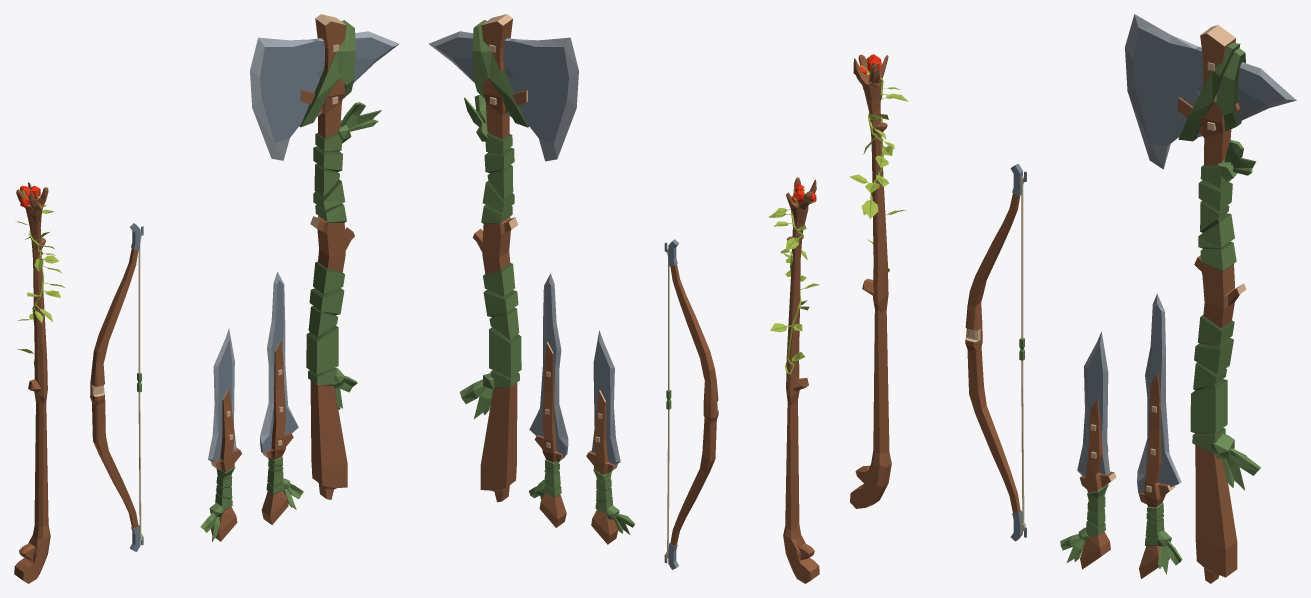
File: WEAPONS_primitive_01.fbx
3 renders of one model, left to right at view 1: azimuth 30°, elevation 25°; view 2: azimuth 150°, elevation 25°; view 3: azimuth 330°, elevation 25°, orthographic. The views are drawn at different scales.
Parts seen in each view (by area): view 1: WEAPONSETS_Primitive_04tri:primitive_warrior, WEAPONSETS_Primitive_04tri:primitive_rogue, WEAPONSETS_Primitive_04tri:primitve_staffe, WEAPONSETS_Primitive_04tri:primitive_bow; view 2: WEAPONSETS_Primitive_04tri:primitive_warrior, WEAPONSETS_Primitive_04tri:primitive_rogue, WEAPONSETS_Primitive_04tri:primitve_staffe, WEAPONSETS_Primitive_04tri:primitive_bow; view 3: WEAPONSETS_Primitive_04tri:primitive_warrior, WEAPONSETS_Primitive_04tri:primitive_rogue, WEAPONSETS_Primitive_04tri:primitve_staffe, WEAPONSETS_Primitive_04tri:primitive_bow.
Boxes of the visible parts, x1,y1,x2,y2 form: WEAPONSETS_Primitive_04tri:primitive_warrior: (250, 14, 399, 499); WEAPONSETS_Primitive_04tri:primitive_rogue: (30, 185, 303, 541); WEAPONSETS_Primitive_04tri:primitve_staffe: (14, 182, 65, 583); WEAPONSETS_Primitive_04tri:primitive_bow: (90, 223, 143, 551); WEAPONSETS_Primitive_04tri:primitive_warrior: (429, 14, 578, 502); WEAPONSETS_Primitive_04tri:primitive_rogue: (529, 184, 804, 544); WEAPONSETS_Primitive_04tri:primitve_staffe: (768, 177, 819, 583); WEAPONSETS_Primitive_04tri:primitive_bow: (664, 239, 718, 569); WEAPONSETS_Primitive_04tri:primitive_warrior: (1125, 14, 1296, 583); WEAPONSETS_Primitive_04tri:primitive_rogue: (867, 57, 1182, 578); WEAPONSETS_Primitive_04tri:primitve_staffe: (849, 54, 908, 508); WEAPONSETS_Primitive_04tri:primitive_bow: (965, 164, 1026, 541).
Bounding box in the file's own units: 791 × 981 × 108.
